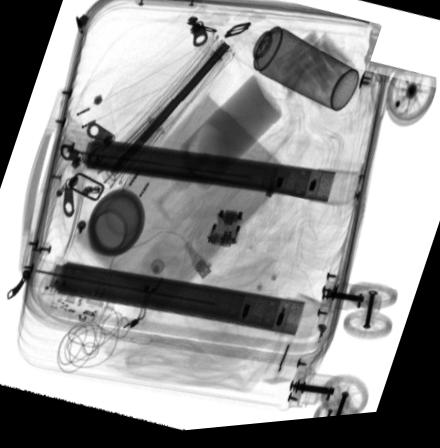Sprayer: (233, 22, 358, 117)
